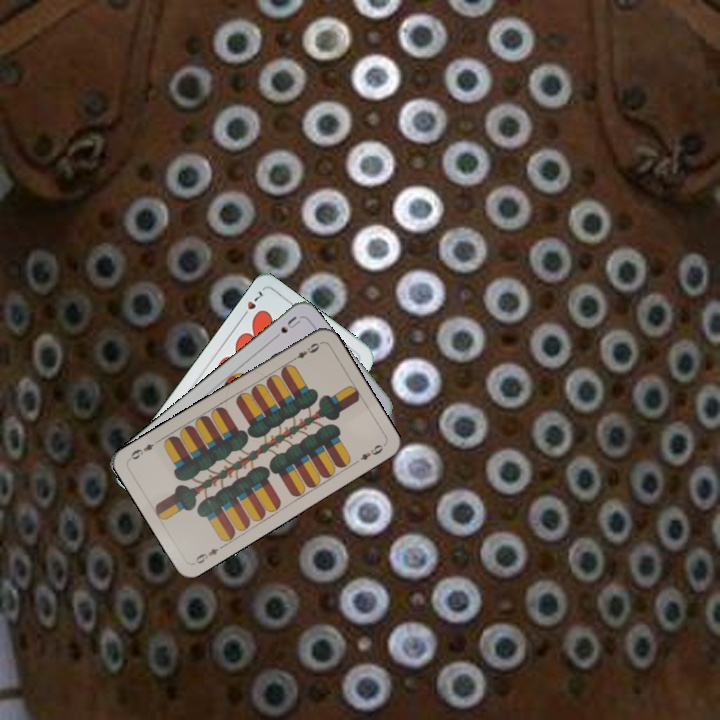E9: (287, 338, 324, 364), (190, 541, 227, 567)
H7: (237, 287, 265, 321)
SU: (268, 312, 303, 343)
